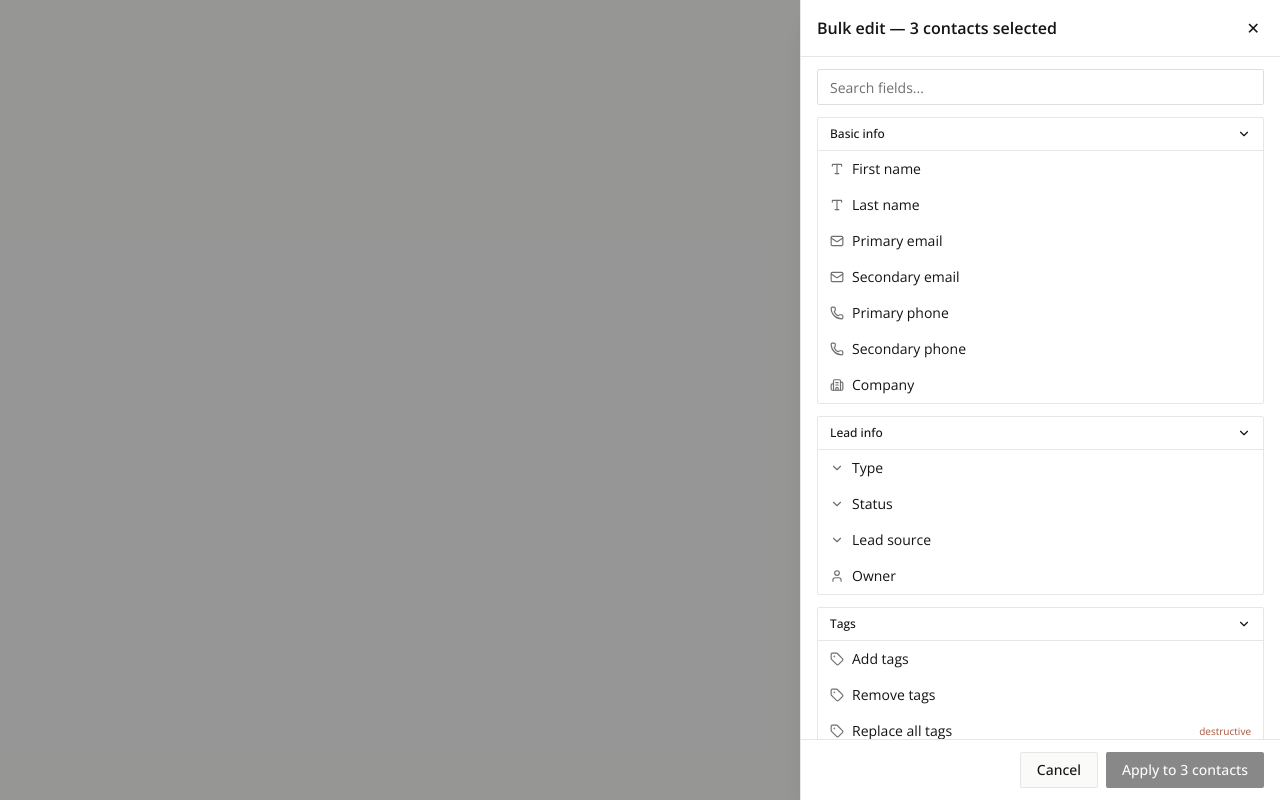
Scenario: BulkEditDrawer › search matches by group name too — 'address' surfaces all four Mailing fields
Step 1. Type "address" into the field labelled "Search fields..." → coordinates (1040, 87), box top-left (817, 69), bottom-right (1264, 105)
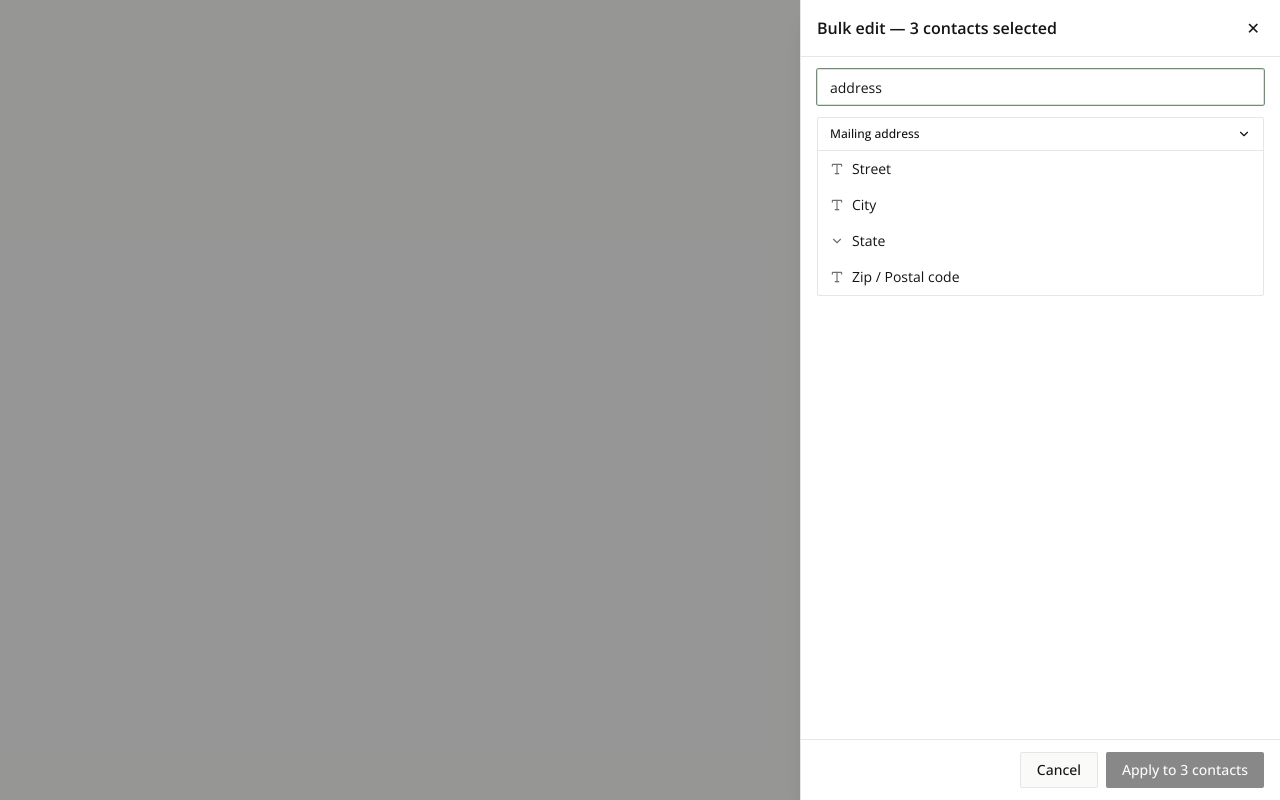
Expected: the button "Street" is shown, top-left (818, 151), bottom-right (1263, 187)
Expected: the button "City" is shown, top-left (818, 187), bottom-right (1263, 223)
Expected: the button "State" is shown, top-left (818, 223), bottom-right (1263, 259)
